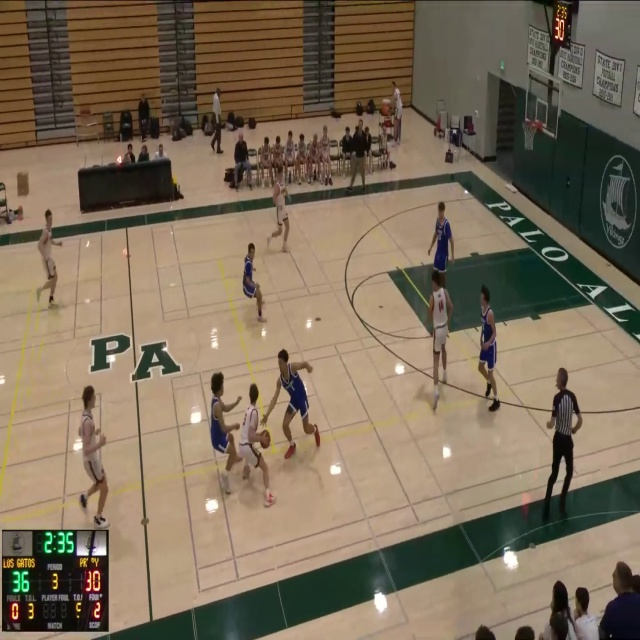Basketball: (259, 430, 271, 449)
